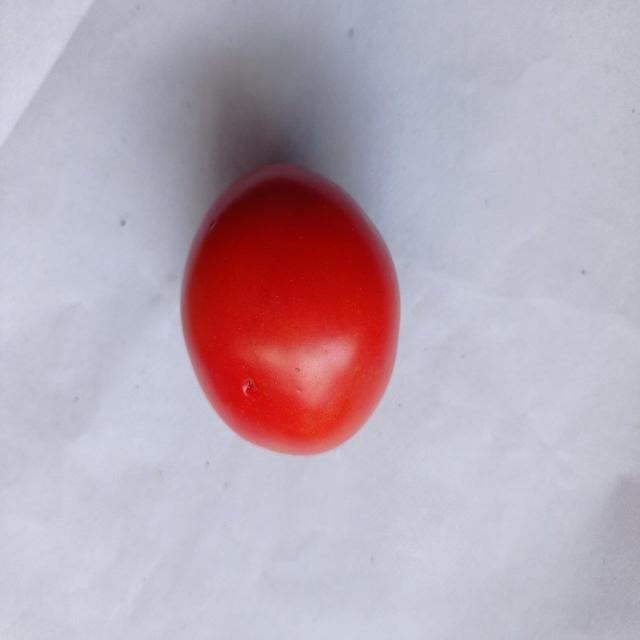Tomato: (178, 159, 404, 456)
